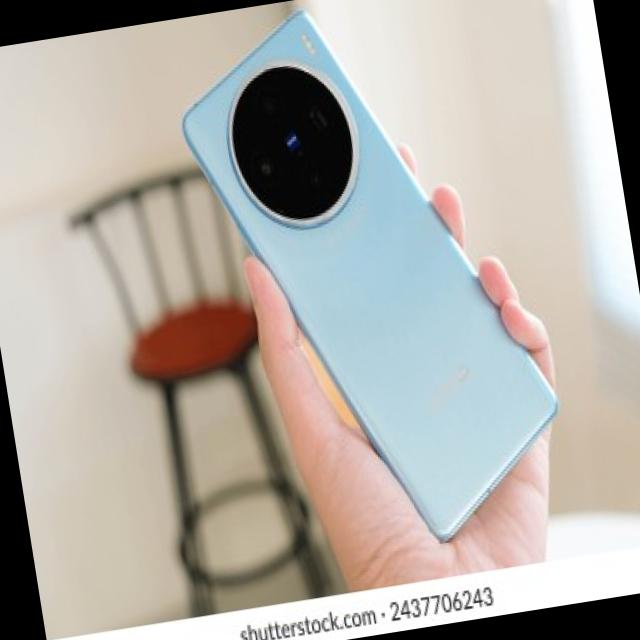mobile_phone: (177, 0, 583, 563)
